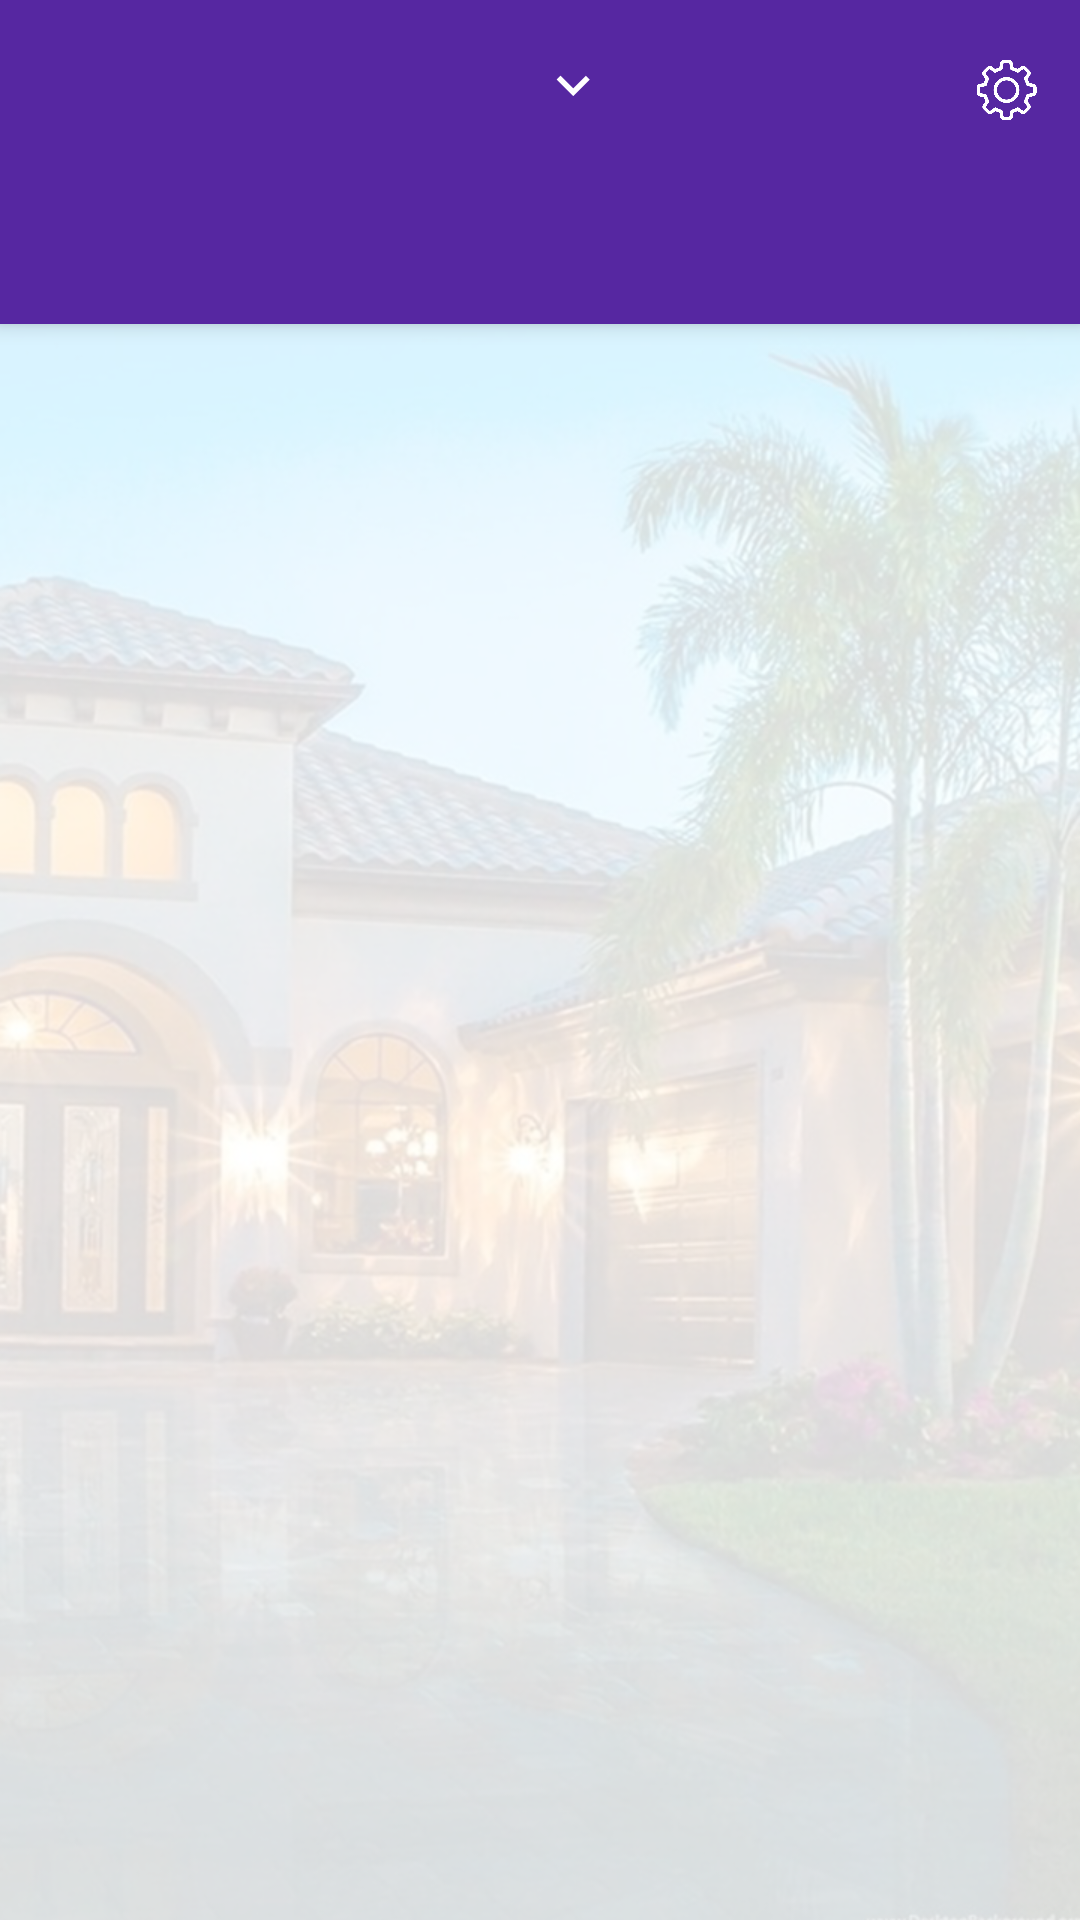

Where to tap for icons on this 1080*1920 app screen, as [x,y]:
keyboard arrow down: [573,85]
settingspng: [1007,90]
